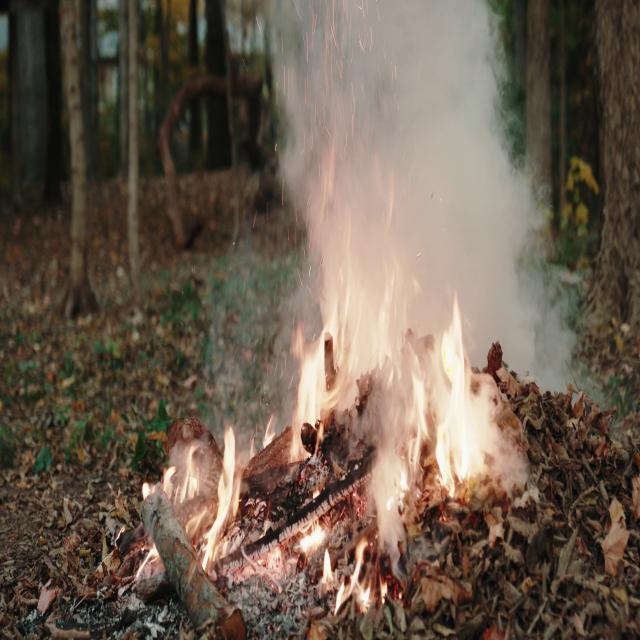Fire: (277, 268, 532, 608), (154, 410, 258, 579)
Smoke: (253, 0, 549, 313)
